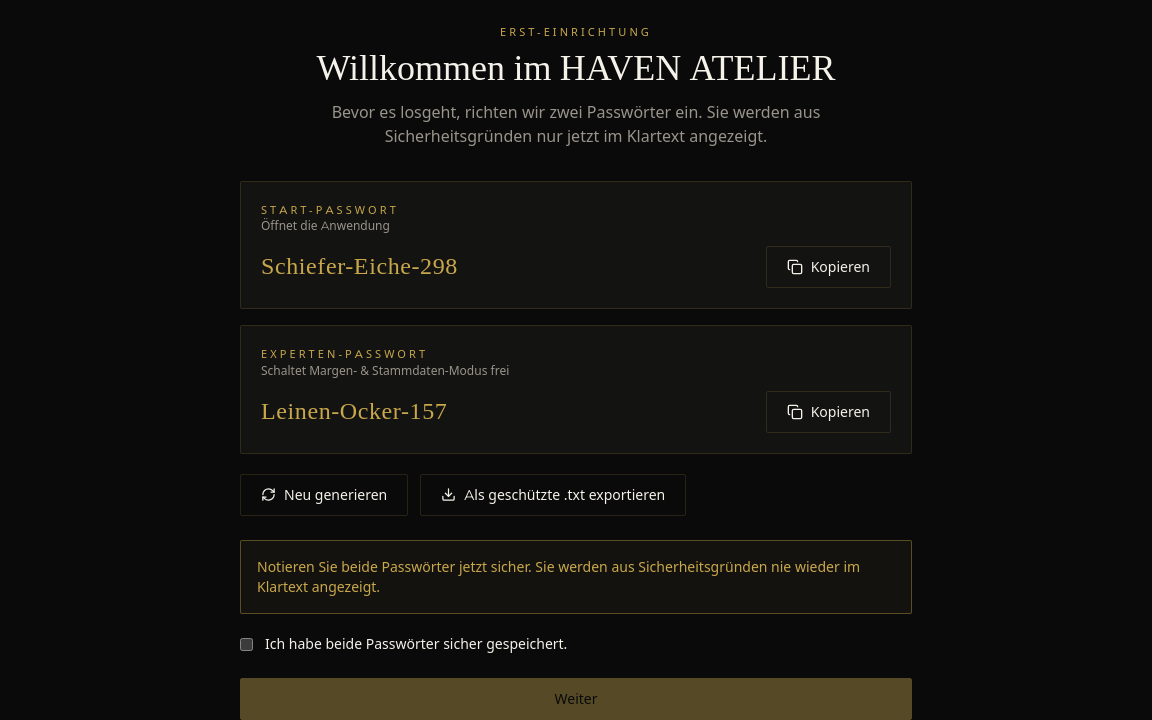
Test: Integration — App-Flow (jsdom) › Sprachumschaltung DE → EN ändert die Navigation
Step 1. Click the checkbox with test id "confirm-pw" → (246, 644), box top-left (240, 638), bottom-right (253, 650)
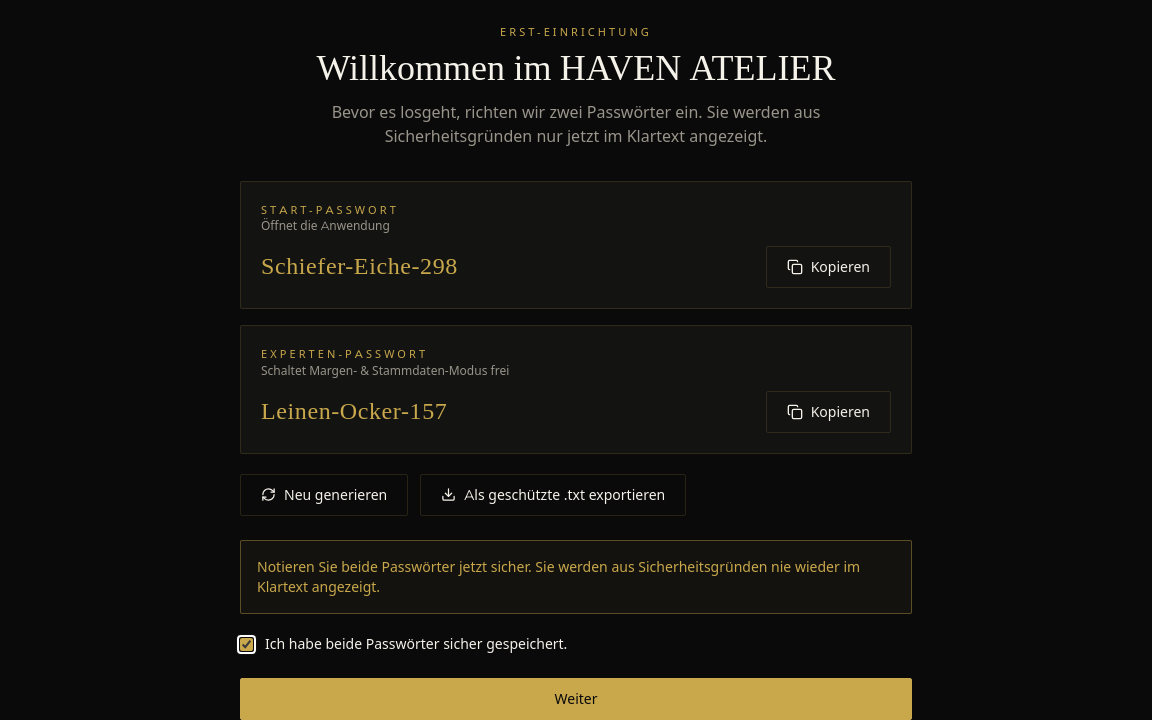
Step 2. Click the button with test id "setup-continue" → (576, 698), box top-left (240, 678), bottom-right (912, 719)
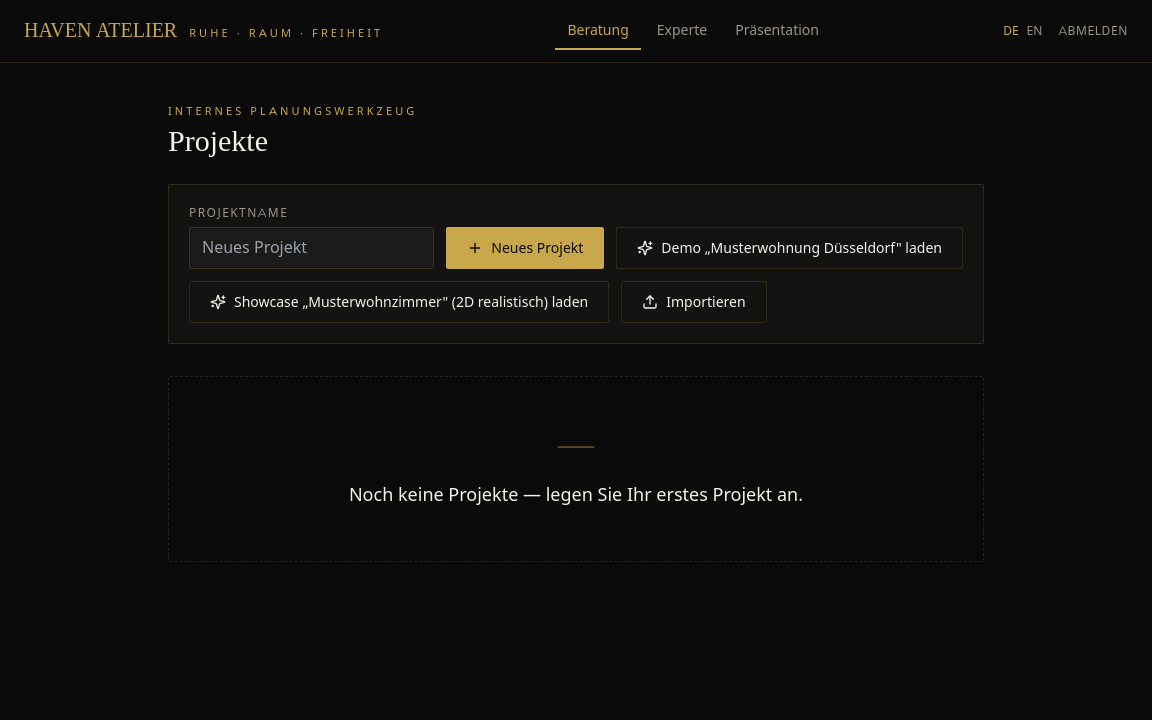
Check: the button with test id "seed-demo" is shown, box top-left (616, 226), bottom-right (963, 268)
Step 3. Click the button with test id "lang-en" → (1034, 31), box top-left (1027, 23), bottom-right (1042, 39)
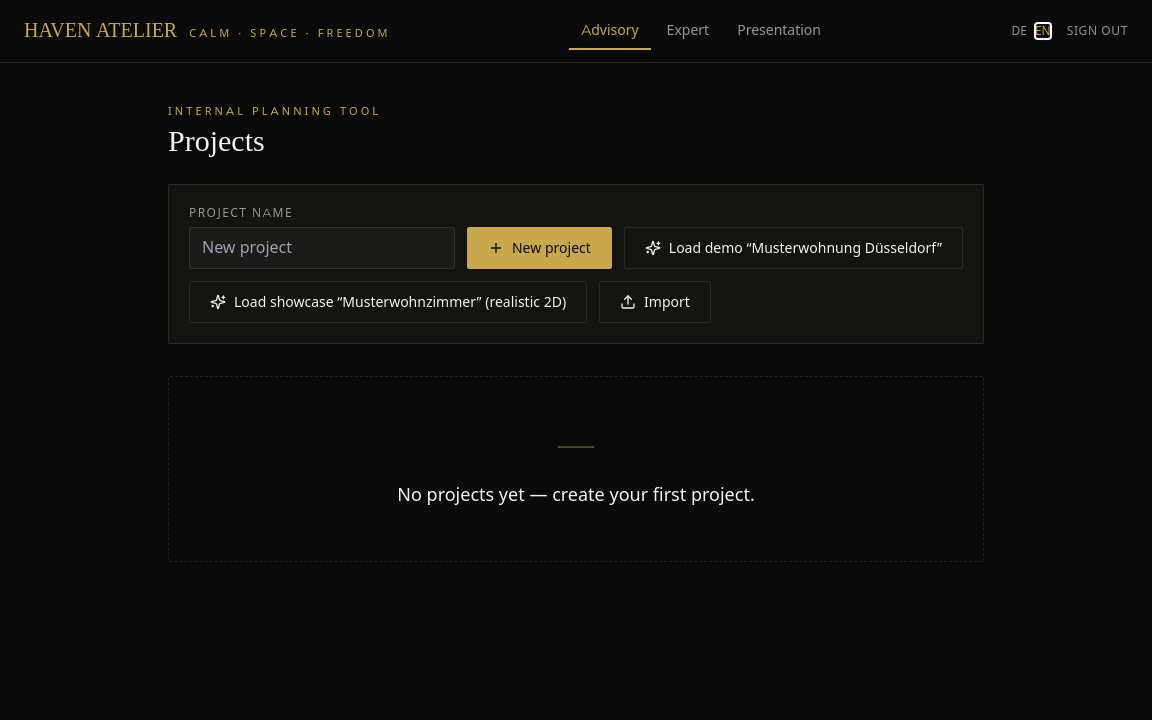
Check: the heading "Projects" is shown, box top-left (168, 122), bottom-right (265, 160)
